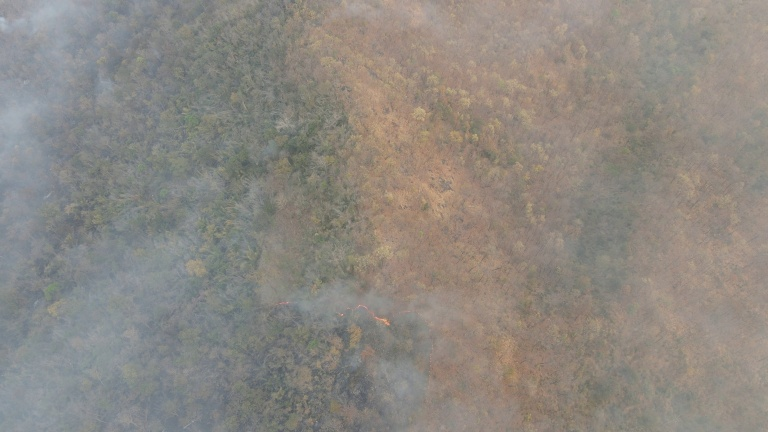fire: (409, 328, 441, 432), (343, 298, 431, 331), (267, 286, 322, 312)
smoke: (1, 1, 187, 430), (263, 266, 496, 432)
